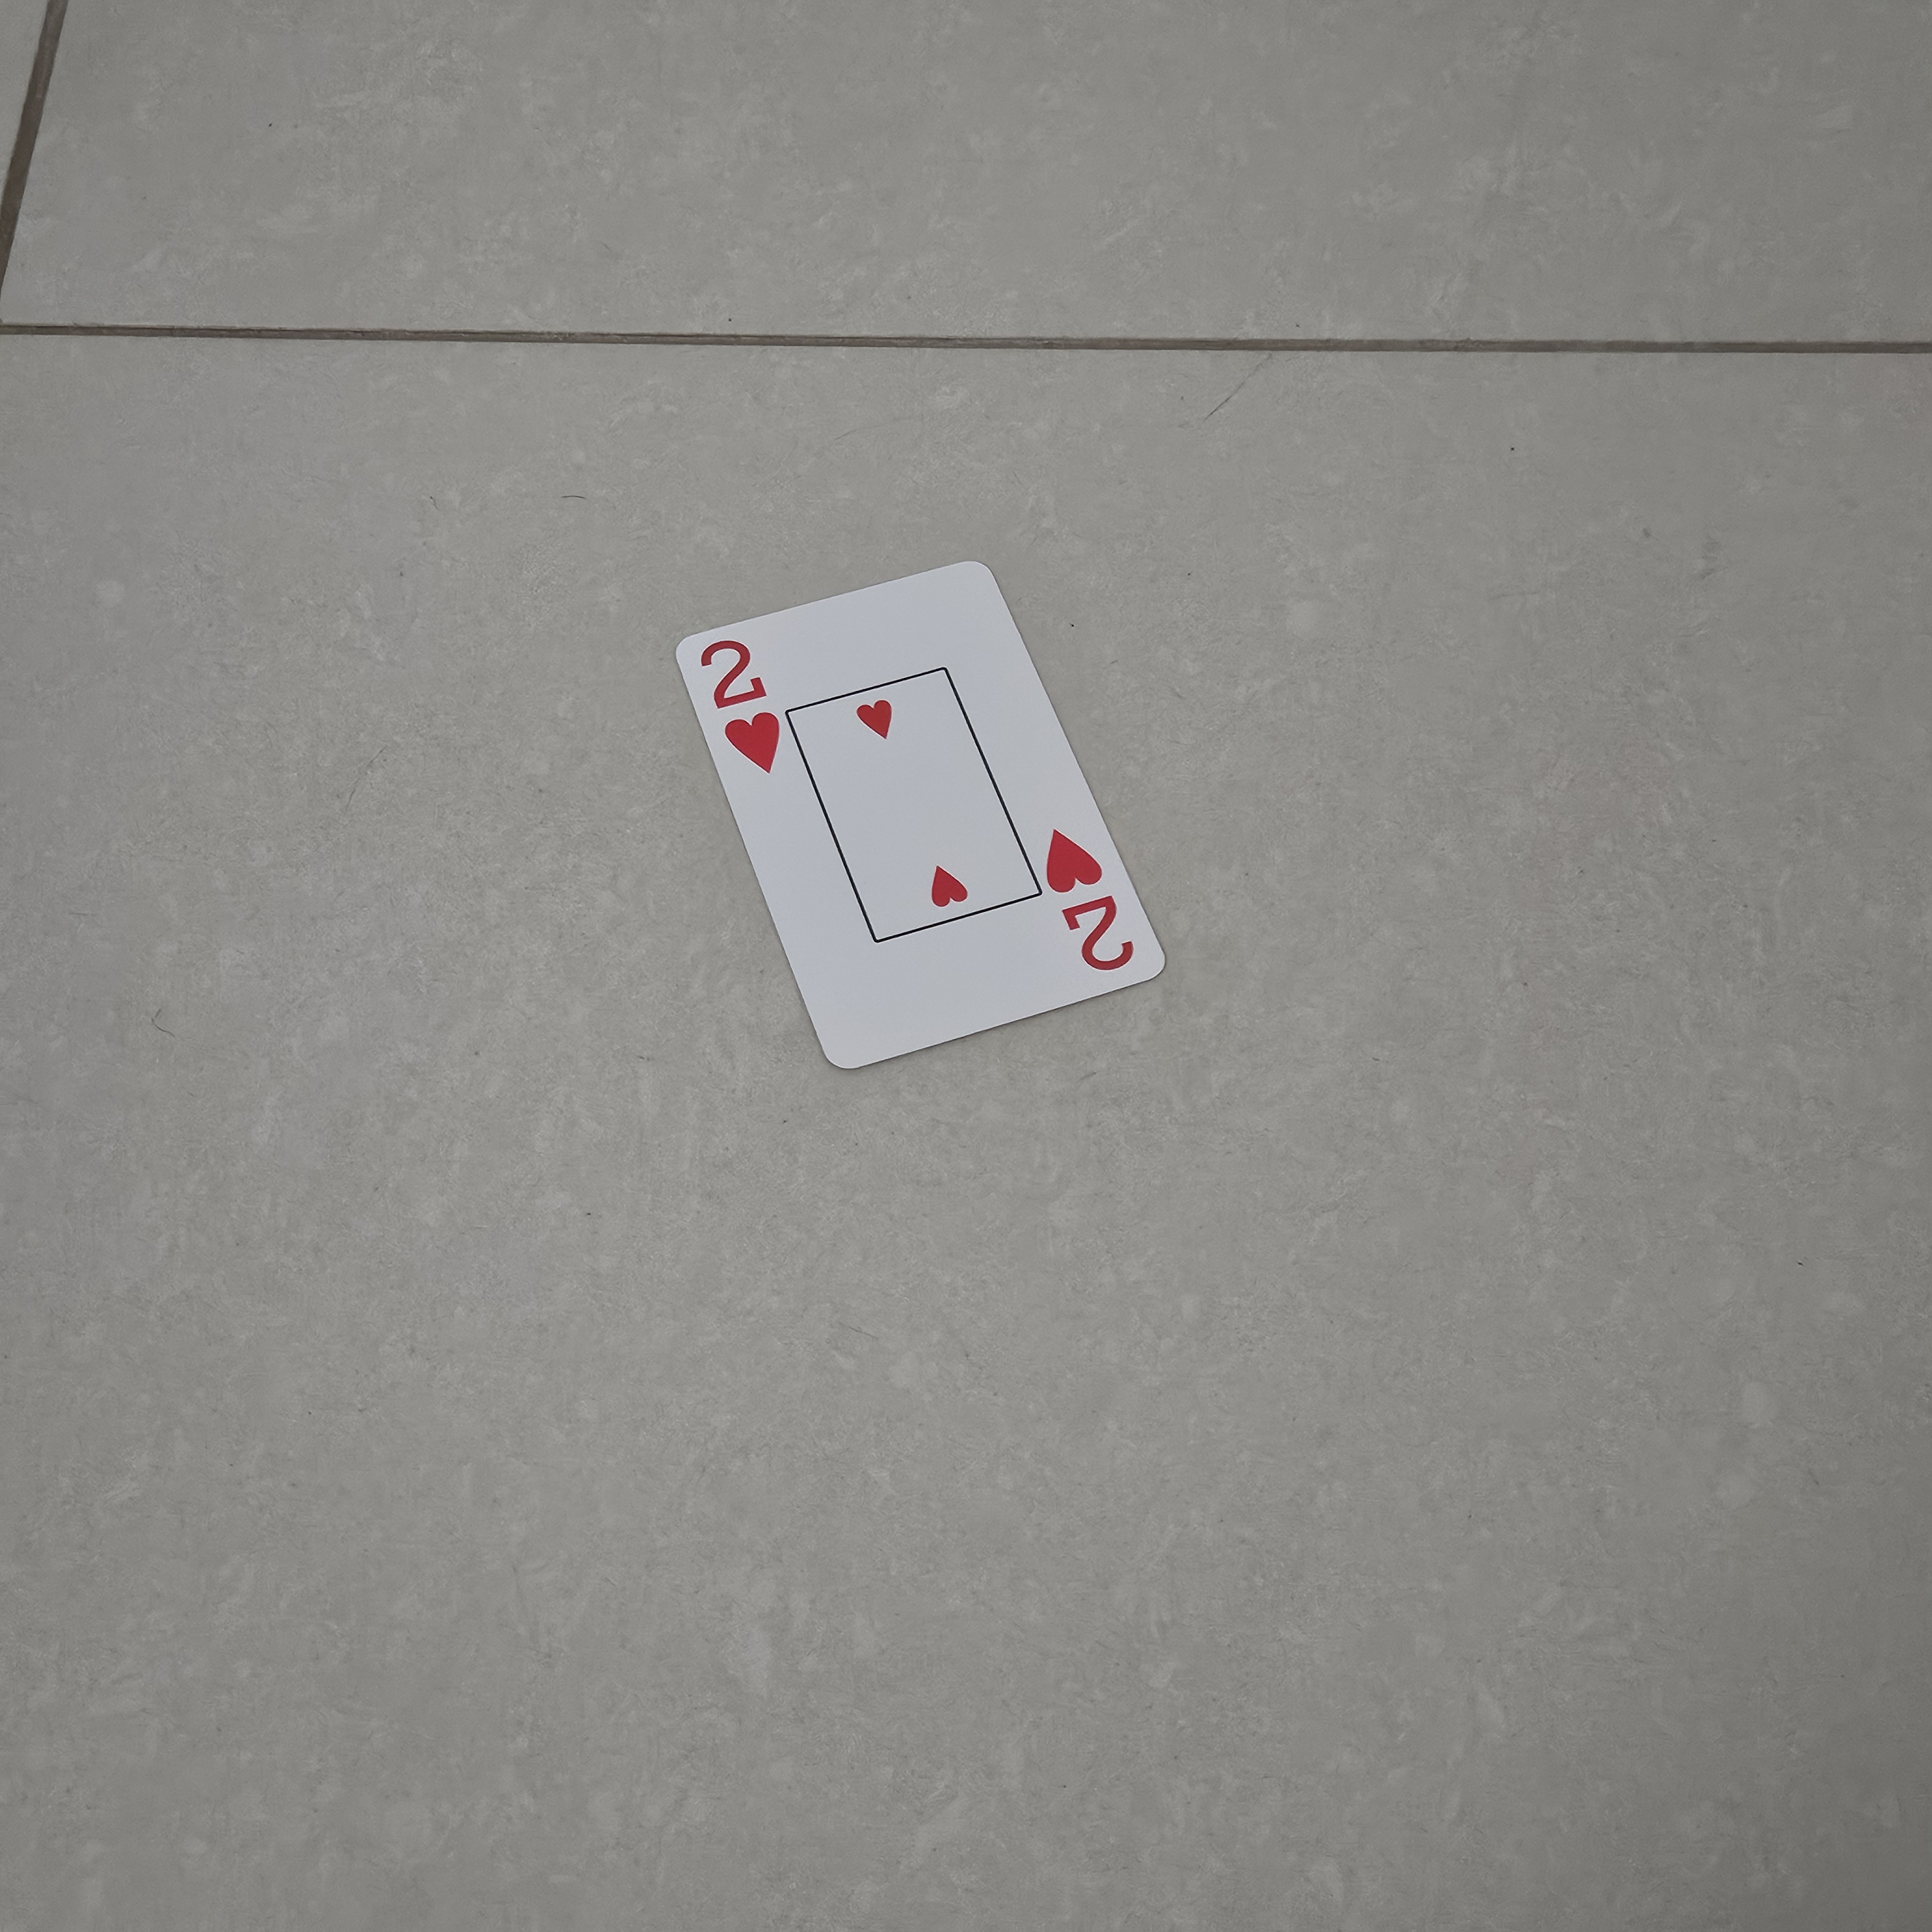2C: (1026, 810, 1152, 980), (690, 628, 800, 786)
